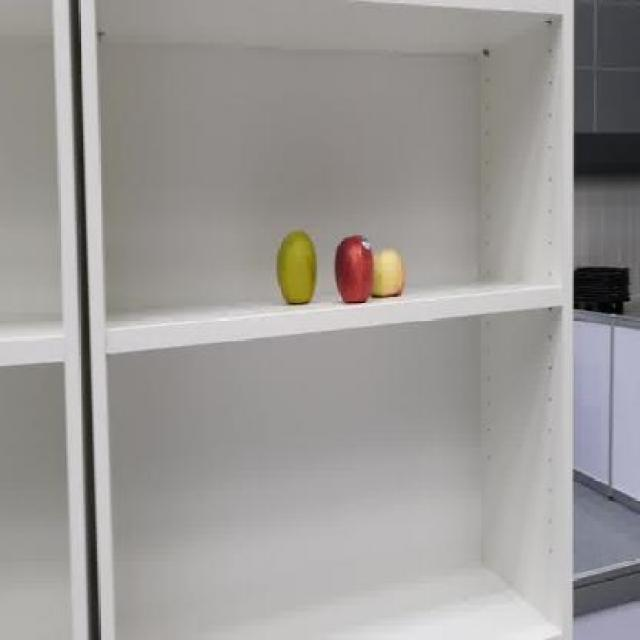Fresh Apple: (268, 229, 323, 305), (336, 236, 378, 306), (371, 248, 412, 302)
